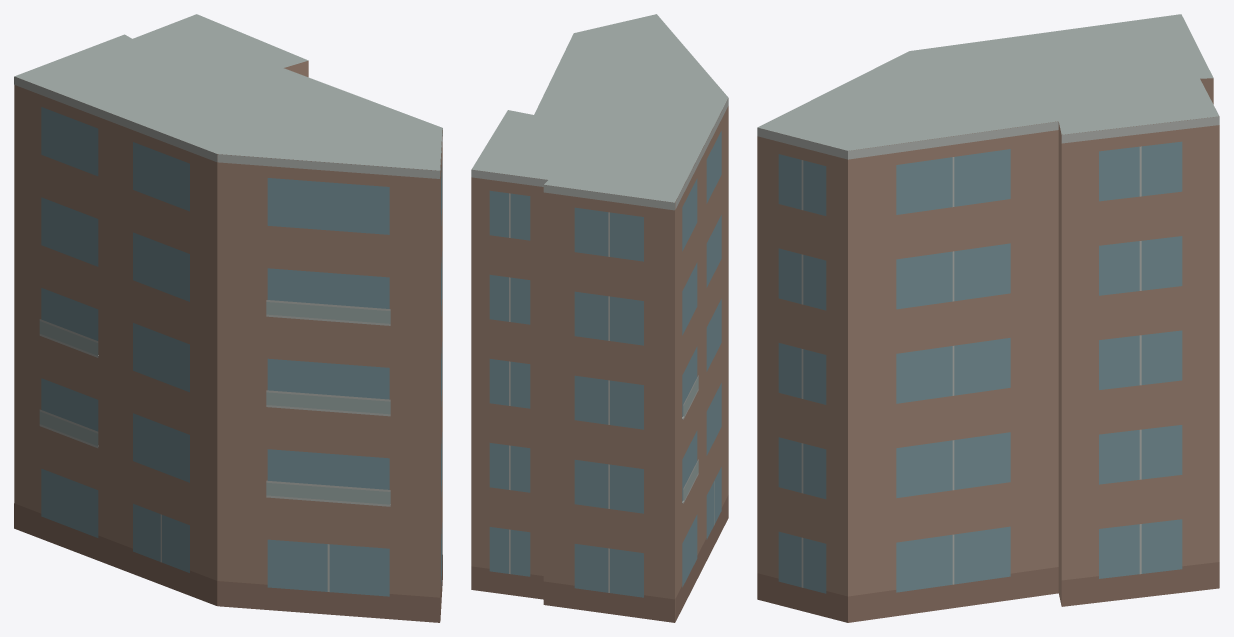
Rendered from survey-upis-32949648.glb.
3 renders of one model, left to right at view 1: azimuth 30°, elevation 25°; view 2: azimuth 150°, elevation 25°; view 3: azimuth 270°, elevation 25°, orthographic. The views are drawn at different scales.
Parts seen in each view (by area): view 1: survey-upis-32949648.tmp; view 2: survey-upis-32949648.tmp; view 3: survey-upis-32949648.tmp.
Part boxes in pixels (x1,y1,x2,y2): survey-upis-32949648.tmp: [14, 14, 442, 622]; survey-upis-32949648.tmp: [471, 14, 728, 622]; survey-upis-32949648.tmp: [757, 14, 1219, 622].
Bounding box in the file's own units: 8.22 × 13.2 × 11.73.
